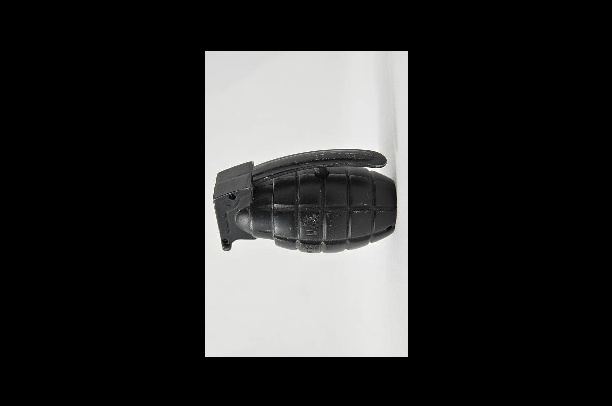e1: (210, 145, 398, 264)
